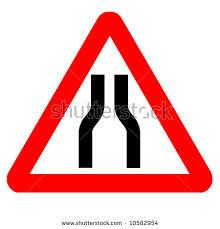narrow_road: (6, 9, 216, 194)
